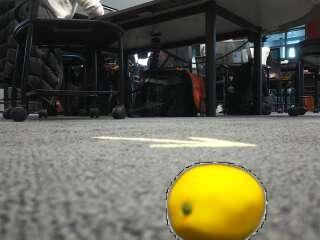lemon: (171, 163, 267, 238)
